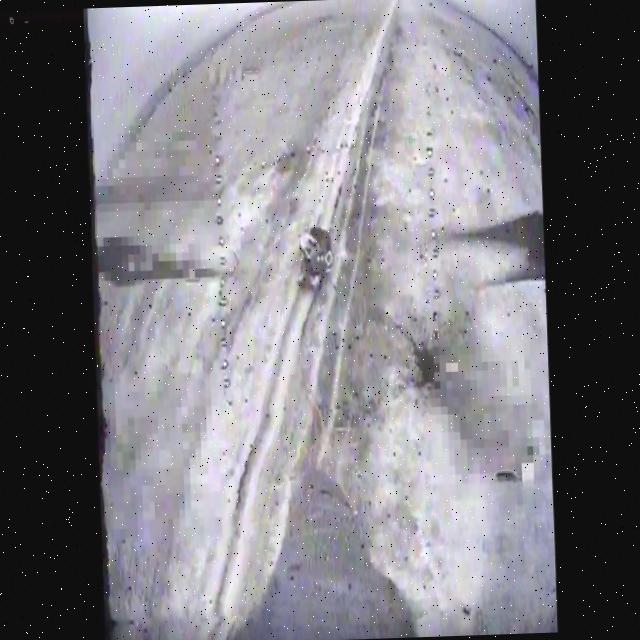MBT: (295, 226, 342, 301)
